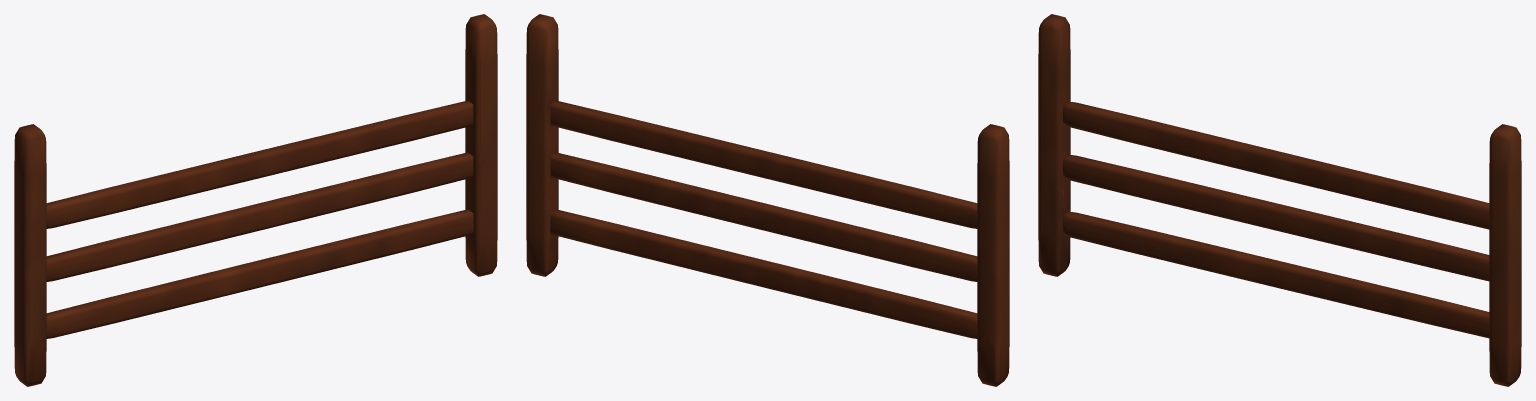
The model's file is FenceVariant03.glb.
The picture shows the model from 3 angles, left to right: view 1: azimuth 30°, elevation 25°; view 2: azimuth 150°, elevation 25°; view 3: azimuth 330°, elevation 25°; orthographic projection.
Parts seen in each view (by area): view 1: Fence.002; view 2: Fence.002; view 3: Fence.002.
Boxes of the visible parts, x1,y1,x2,y2 form: Fence.002: [14, 14, 497, 386]; Fence.002: [526, 14, 1009, 386]; Fence.002: [1038, 14, 1521, 386].
Size of the model in its own units: 8.01 by 4.11 by 0.3802.
Materials: 1 (1 with a texture image).
